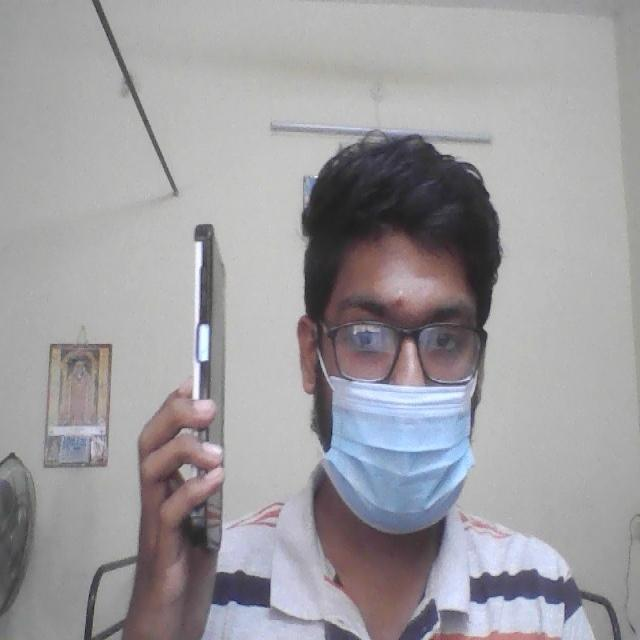Mobile: (184, 194, 228, 567)
